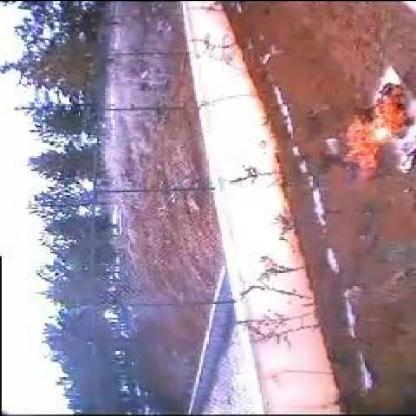foggia-v2-map80-epoch100 - v1 4323: (346, 82, 412, 174)
